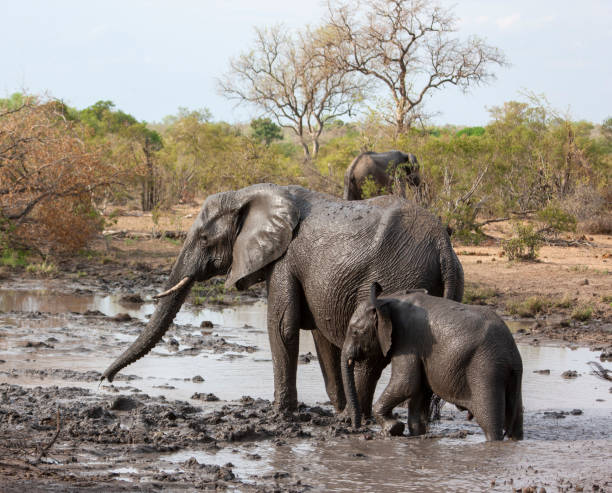africanelephant: (163, 184, 261, 289)
